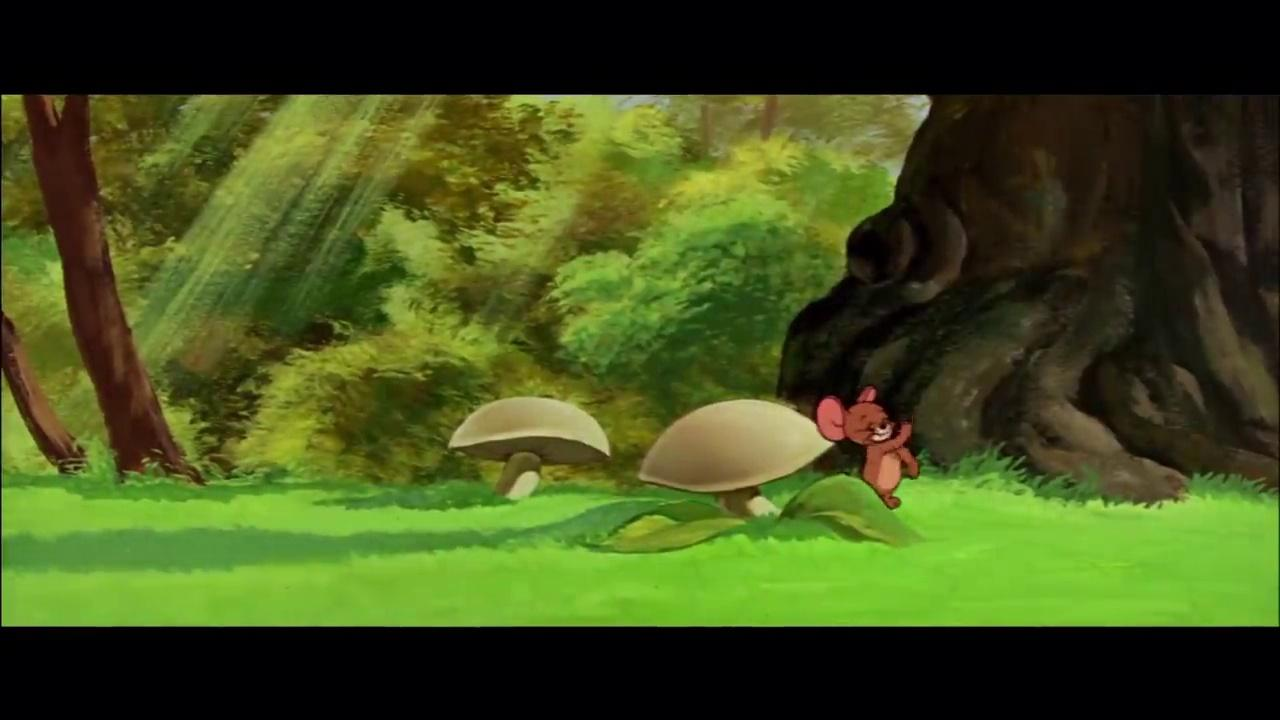Jerry: (815, 384, 921, 509)
